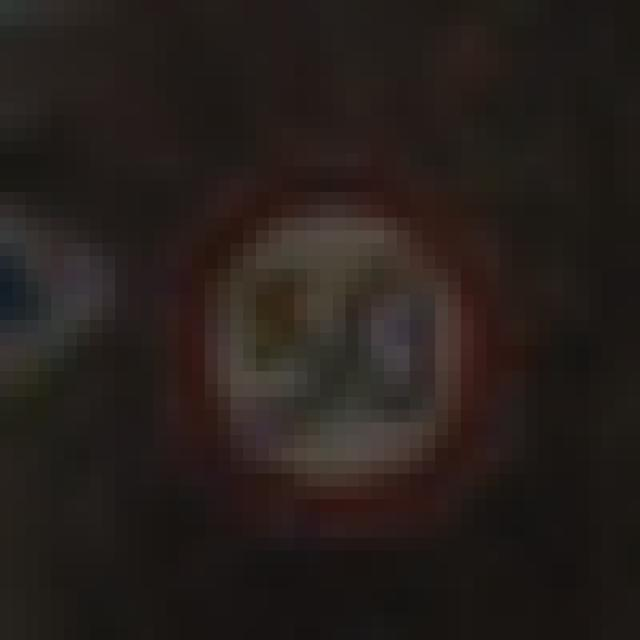Limite-50: (155, 143, 534, 548)
